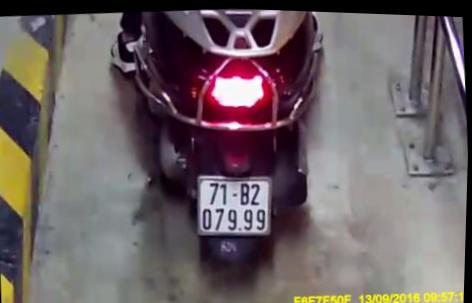LP: (193, 166, 277, 239)
